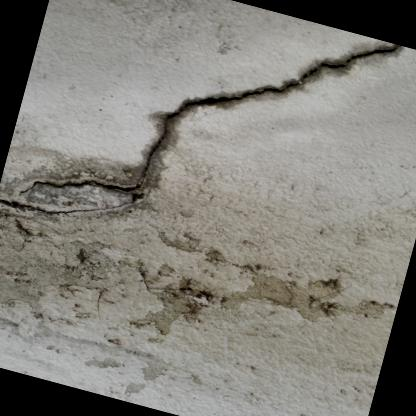crack: (19, 43, 402, 195)
